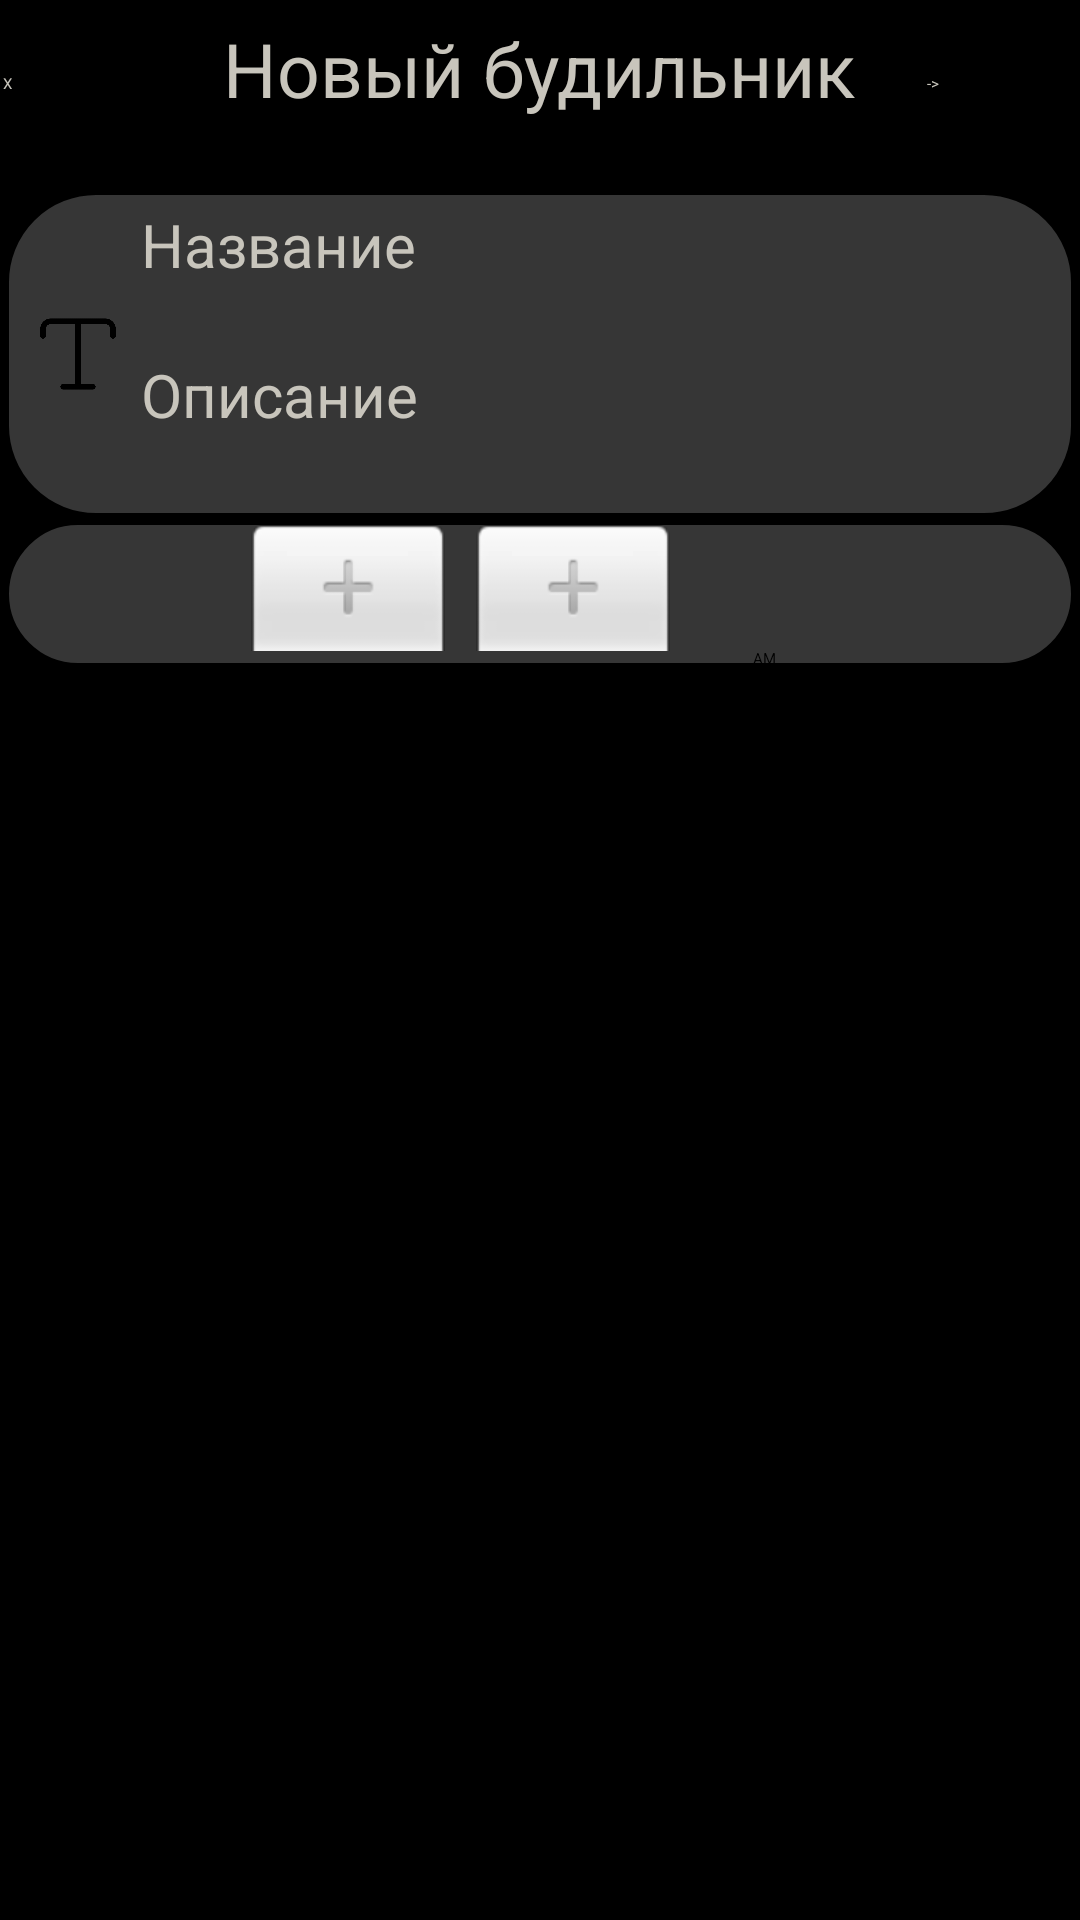

Icon bounding boxes for this 1080px×1920px phone screenshot, format box=[x1, y1, x2, y2]:
text: box=[40, 318, 116, 390]
